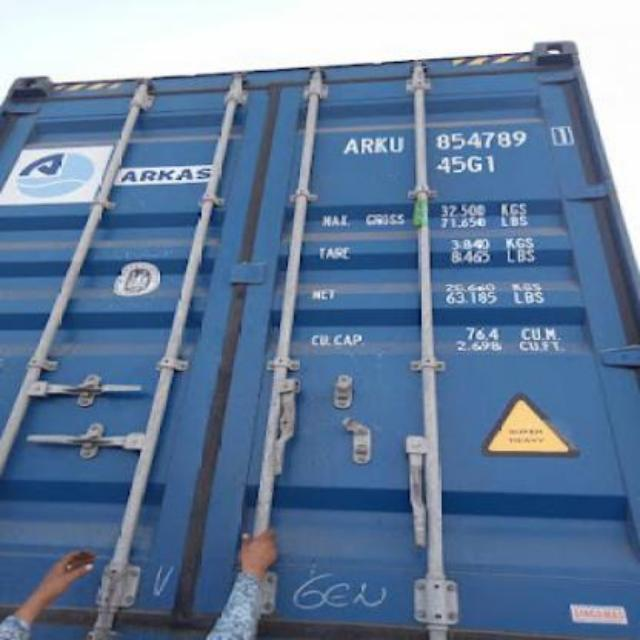1: (556, 127, 568, 143)
4: (466, 130, 482, 150)
5: (450, 130, 466, 150)
7: (480, 128, 496, 150)
8: (496, 128, 512, 148), (434, 136, 452, 148)
9: (510, 128, 528, 148)
A: (344, 136, 356, 154)
K: (376, 136, 392, 154)
R: (361, 136, 374, 154)
U: (390, 135, 408, 155)
